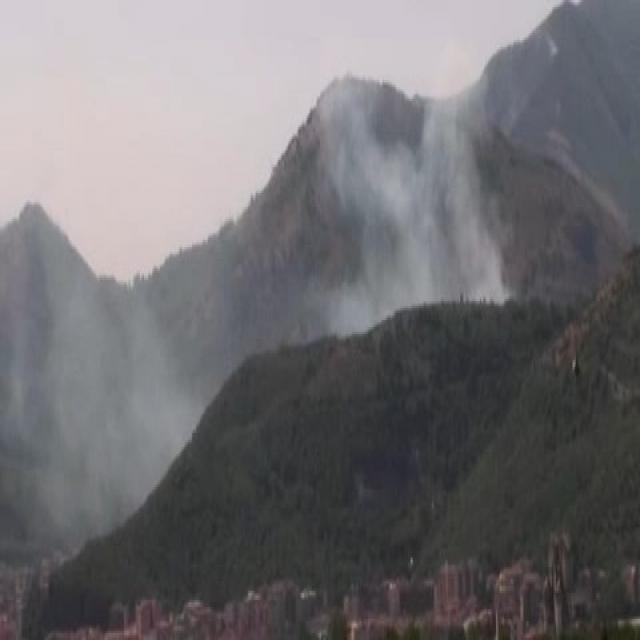smoke: (315, 74, 488, 319), (36, 265, 197, 480)
